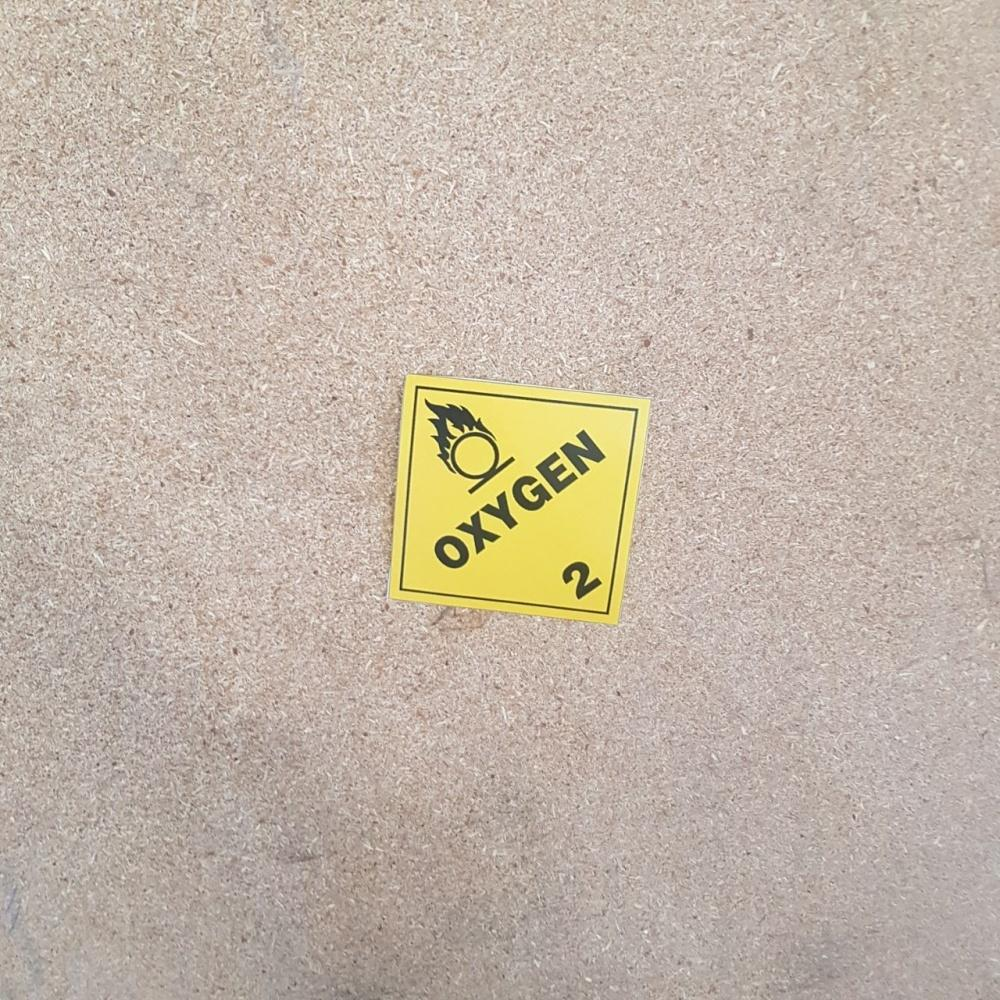oxidizer: (384, 379, 650, 627)
